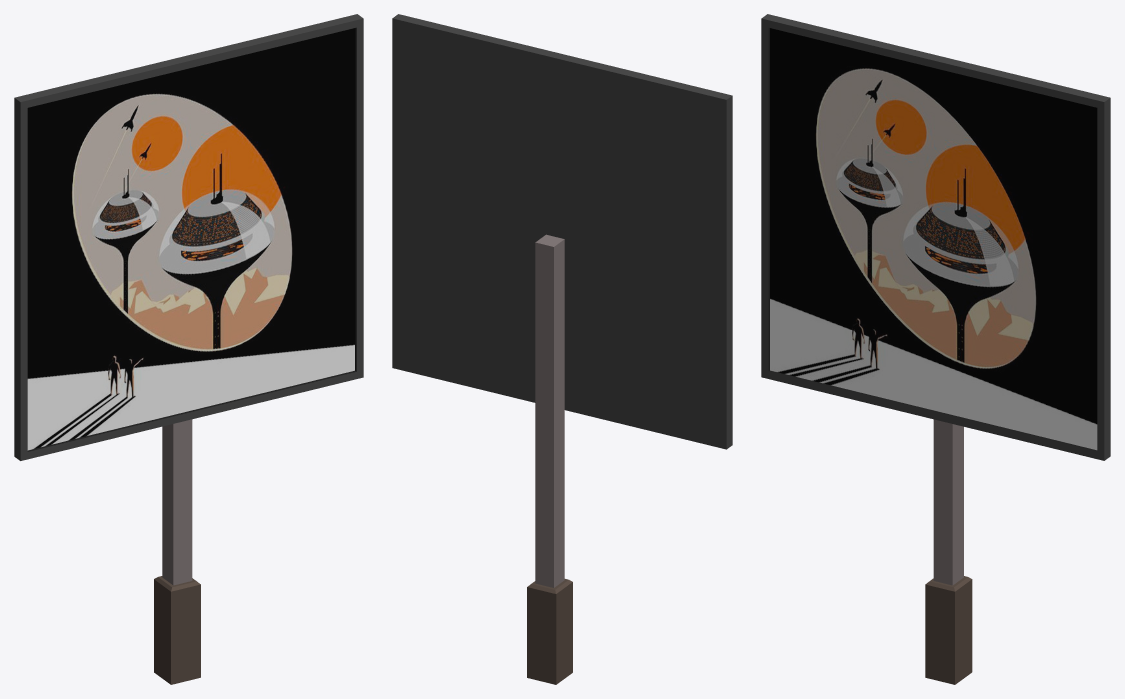
The model's file is first-image-dcl.glb.
3 views of the same model, side by side, from view 1: azimuth 30°, elevation 25°; view 2: azimuth 150°, elevation 25°; view 3: azimuth 330°, elevation 25° (orthographic). The views are drawn at different scales.
Visible parts, largest first — view 1: pixels-beggining; view 2: pixels-beggining; view 3: pixels-beggining.
Part boxes in pixels (x1=…): pixels-beggining: x1=14, y1=14, x2=363, y2=684; pixels-beggining: x1=392, y1=14, x2=732, y2=684; pixels-beggining: x1=761, y1=14, x2=1110, y2=684.
Size of what is drawn, in the model's own units: 2.54 by 4.43 by 0.3064.
2 materials, 2 textured.
